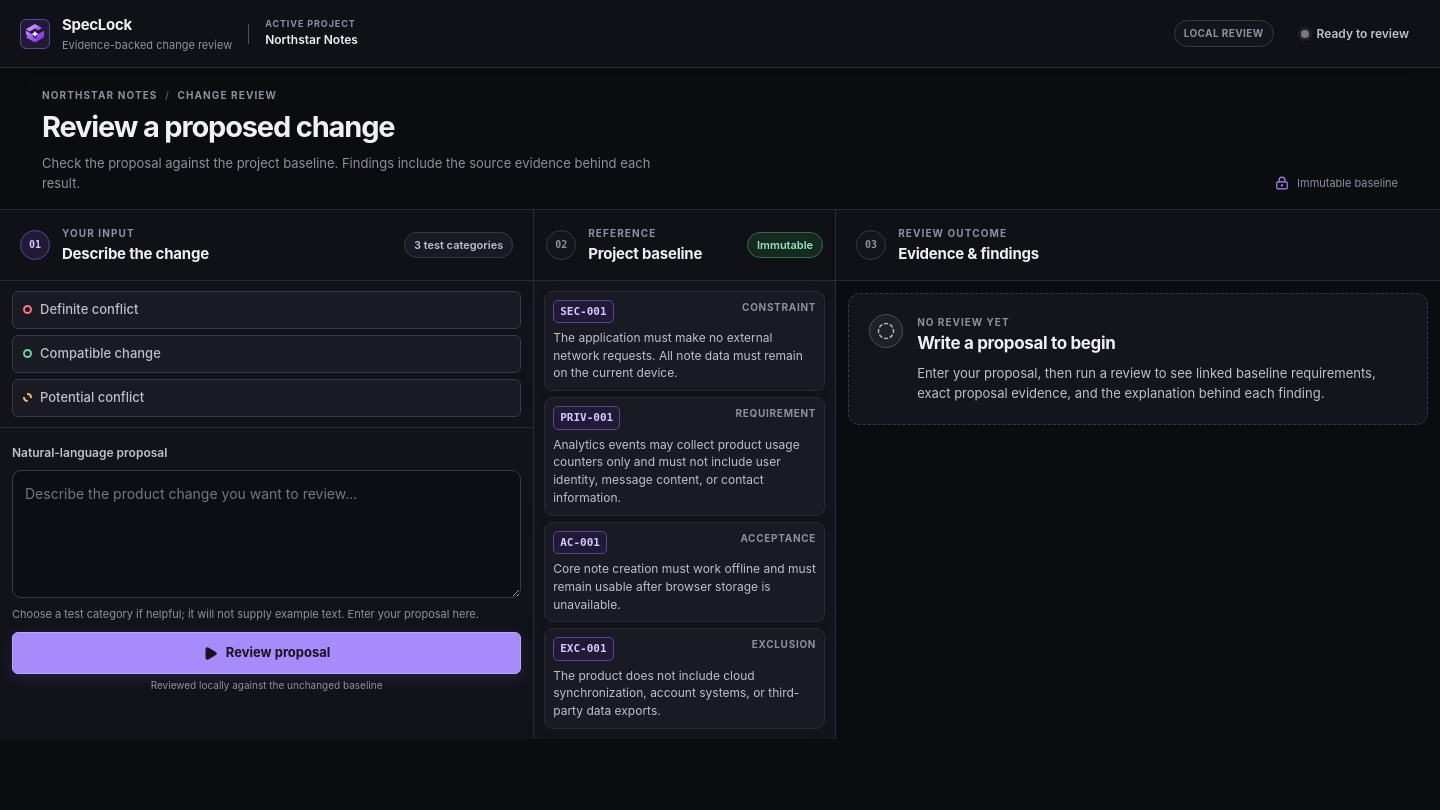
Test: SpecLock workspace › shows an Unable to assess result without resolution controls for unsupported text
Type "Add an unrelated document export workflow." into the text box labelled "Natural-language proposal" at (267, 534), box 12,470 -> 521,598
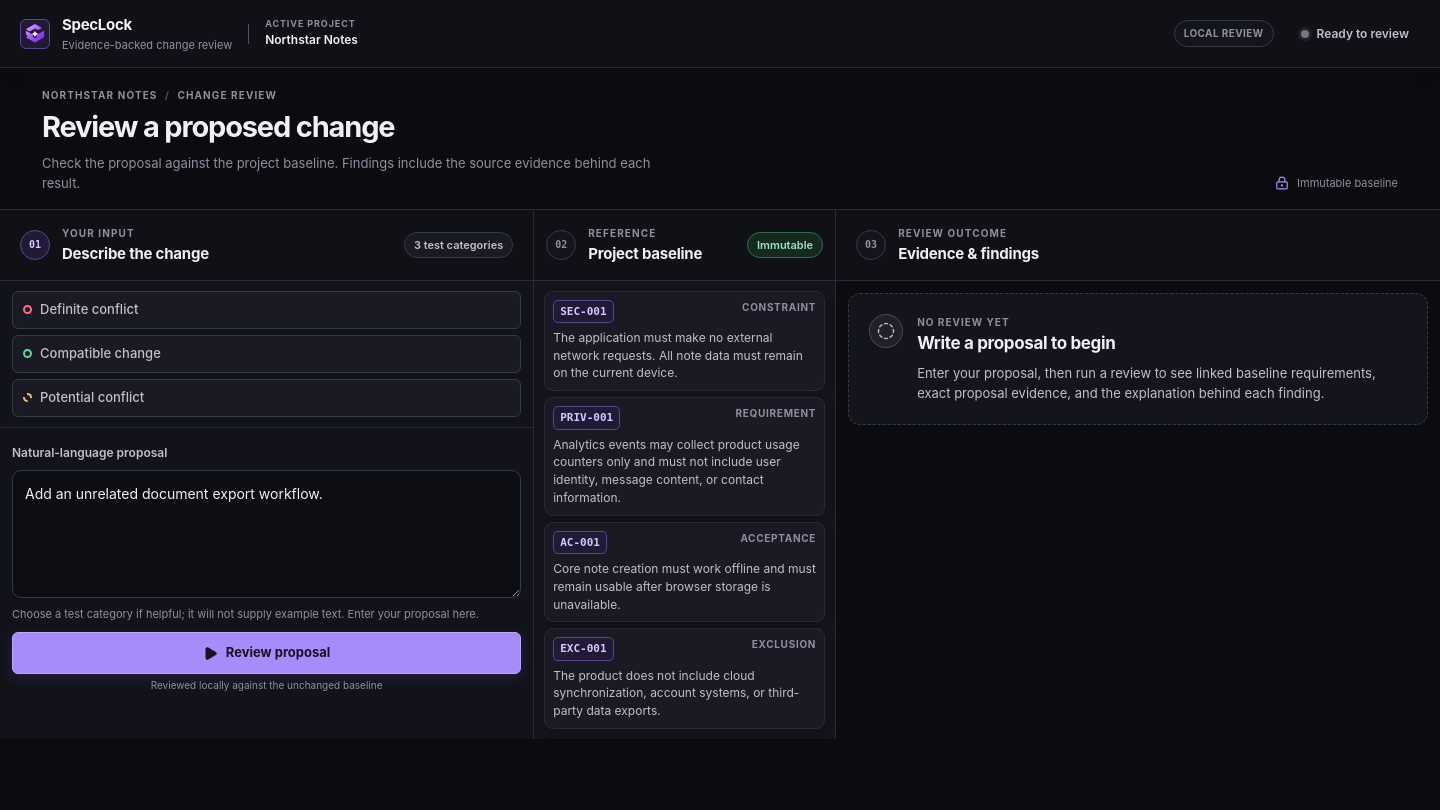
Click the button "Review proposal" at (267, 653), box 12,632 -> 521,674
Wait 181 ms
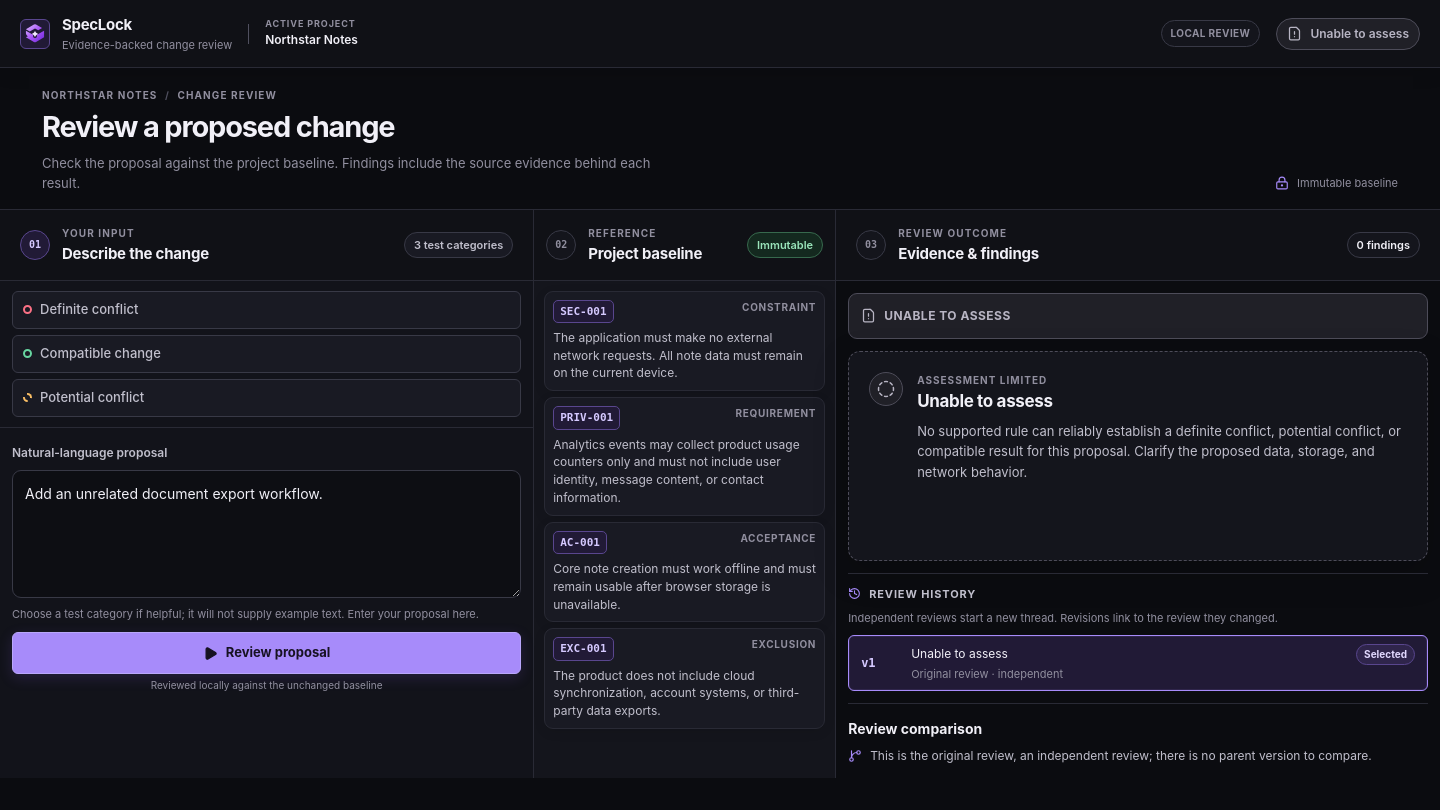
Now the heading "Unable to assess" is shown, box 917,391 -> 1053,411
Now the element named "Review outcome" reads "Unable to assess", box 884,308 -> 1011,323
